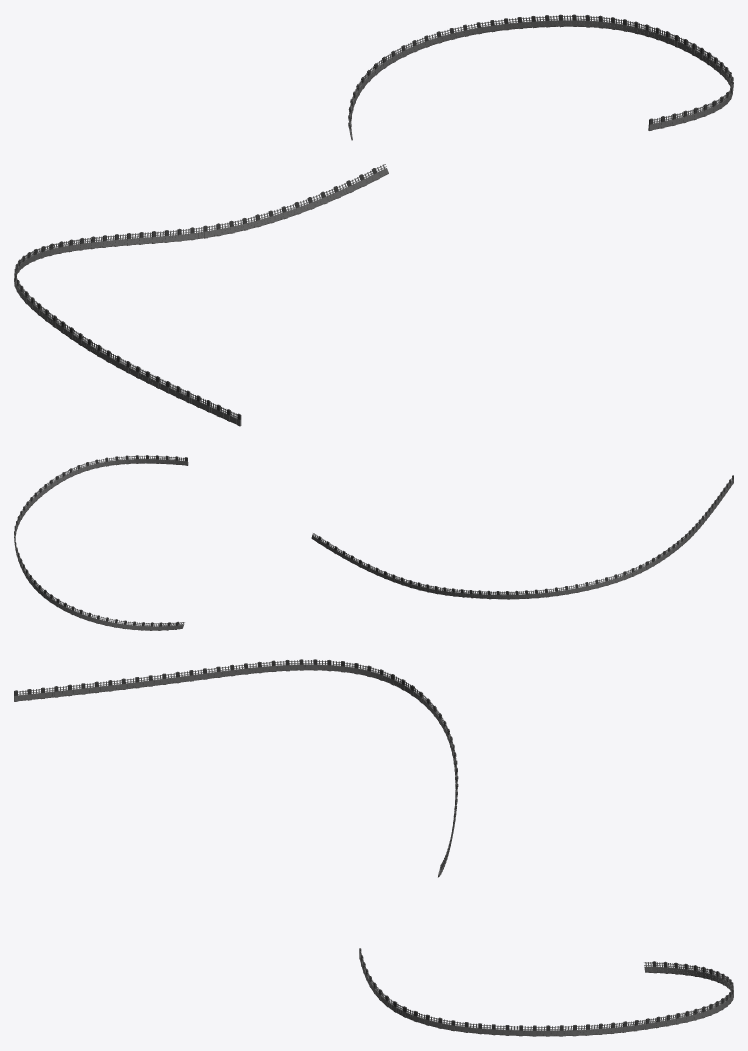
The model's file is Pagar.fbx.
3 renders of one model, top to bottom at view 1: azimuth 30°, elevation 25°; view 2: azimuth 150°, elevation 25°; view 3: azimuth 270°, elevation 25°, orthographic. The views are drawn at different scales.
Visible parts, largest first — view 1: Pagar low 2.004, Pagar low 2.005; view 2: Pagar low 2.004, Pagar low 2.005; view 3: Pagar low 2.004, Pagar low 2.005.
Boxes of the visible parts, x1=… form: Pagar low 2.004: x1=14, y1=164, x2=388, y2=426; Pagar low 2.005: x1=348, y1=14, x2=733, y2=140; Pagar low 2.004: x1=311, y1=475, x2=733, y2=599; Pagar low 2.005: x1=14, y1=455, x2=188, y2=630; Pagar low 2.004: x1=14, y1=659, x2=458, y2=877; Pagar low 2.005: x1=359, y1=948, x2=733, y2=1036.
Size of the model in its own units: 28146 by 3393 by 24218.
